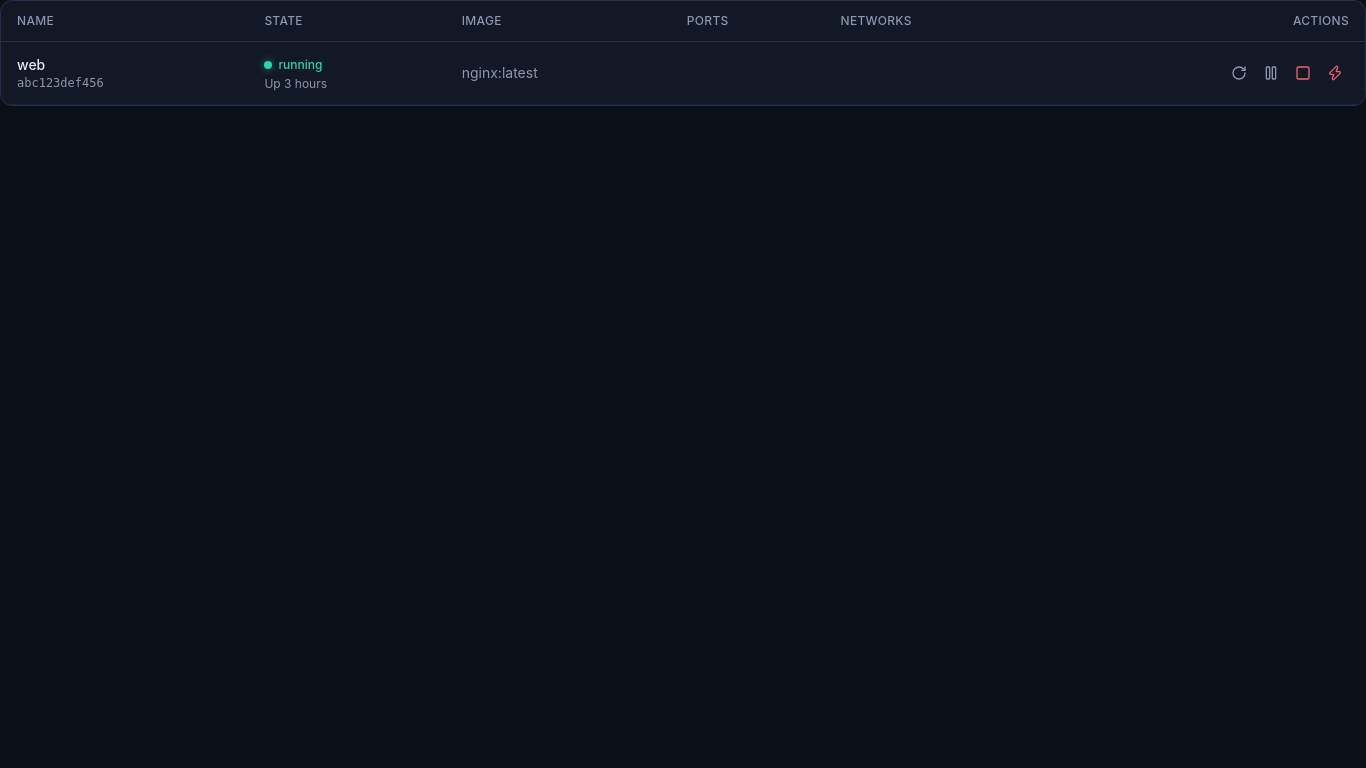
killing a container › asks before killing, and does nothing until confirmed
Click the button named "Kill (SIGKILL)". click: (1335, 73)
box: [1321,59,1349,87]
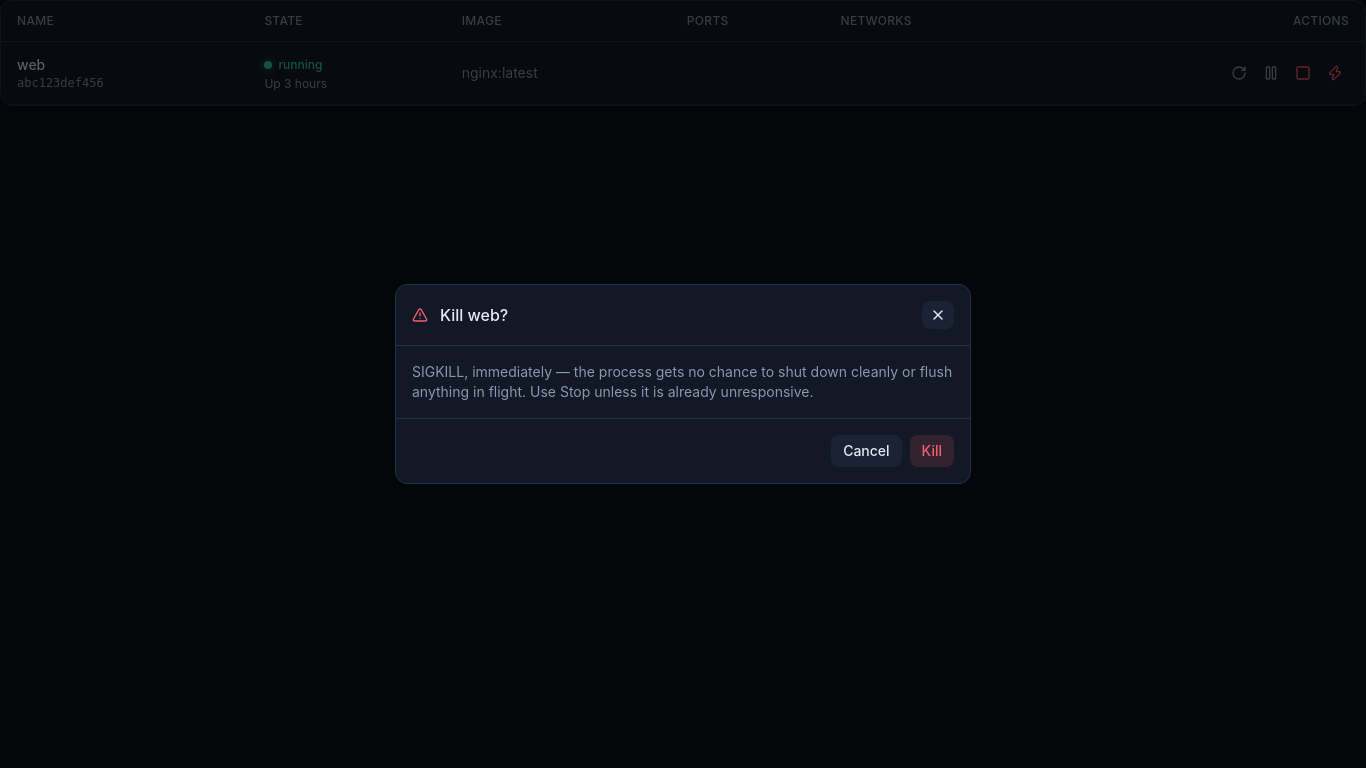
Now the text "SIGKILL" is shown, box [412,363,952,400]
